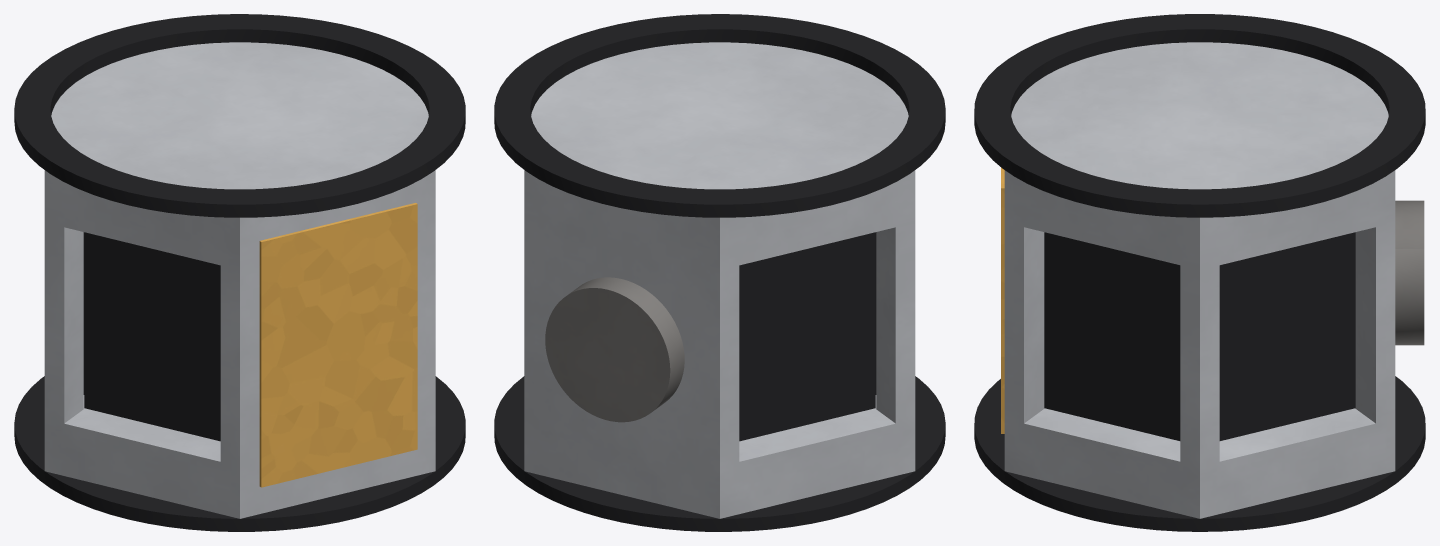
The model's file is cmd01_probe_bus.glb.
3 views of the same model, side by side, from view 1: azimuth 30°, elevation 25°; view 2: azimuth 150°, elevation 25°; view 3: azimuth 270°, elevation 25° (orthographic).
Visible parts, largest first — view 1: bus_structure, stack_rings, mli_panel, slot_items; view 2: bus_structure, stack_rings, slot_items, reaction_wheel_housing; view 3: bus_structure, slot_items, stack_rings, reaction_wheel_housing, mli_panel.
Part boxes in pixels (bbox=[...]): bus_structure: bbox=[44, 42, 435, 518]; stack_rings: bbox=[14, 14, 465, 531]; mli_panel: bbox=[259, 203, 417, 487]; slot_items: bbox=[83, 232, 220, 441]; bus_structure: bbox=[524, 42, 915, 518]; stack_rings: bbox=[494, 14, 945, 531]; slot_items: bbox=[739, 232, 876, 441]; reaction_wheel_housing: bbox=[545, 277, 684, 422]; bus_structure: bbox=[1004, 42, 1395, 518]; slot_items: bbox=[1044, 232, 1355, 440]; stack_rings: bbox=[974, 14, 1425, 531]; reaction_wheel_housing: bbox=[1395, 200, 1424, 345]; mli_panel: bbox=[1001, 167, 1004, 433].
Size of the model in its own units: 1.25 by 1 by 1.25.
Materials: 4 (3 with a texture image).
